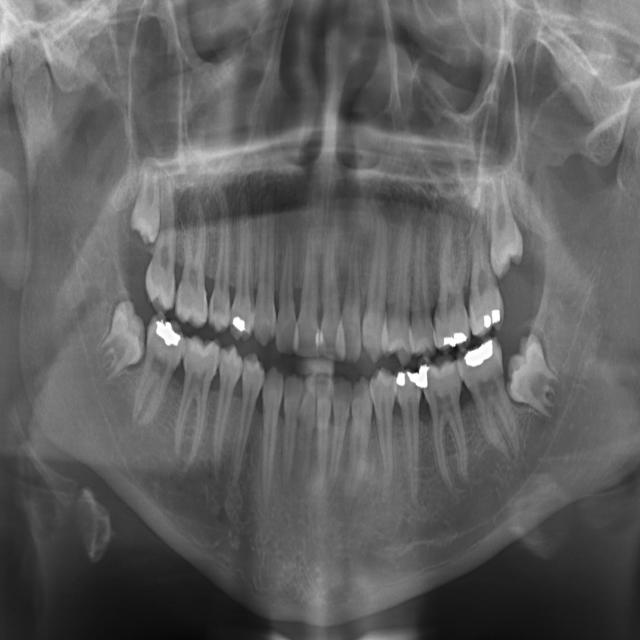AmalgamRestoration: (464, 336, 499, 371), (154, 311, 182, 348), (442, 329, 471, 351), (482, 307, 503, 332), (231, 312, 250, 332), (421, 362, 431, 388), (408, 366, 421, 381), (397, 371, 407, 386)
